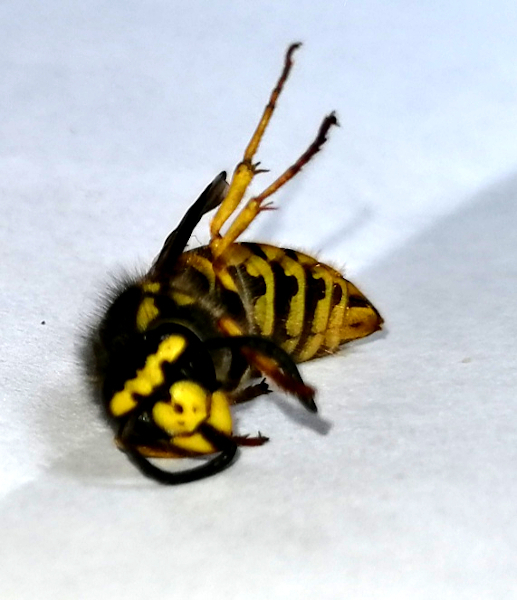chax: (75, 38, 409, 494)
